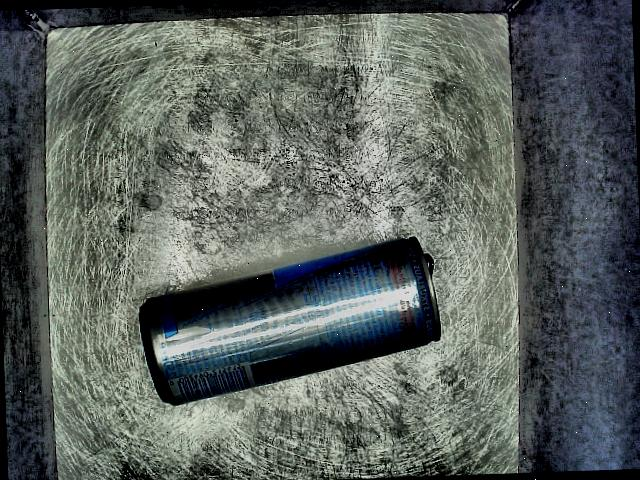Bottles: (119, 222, 465, 444)
